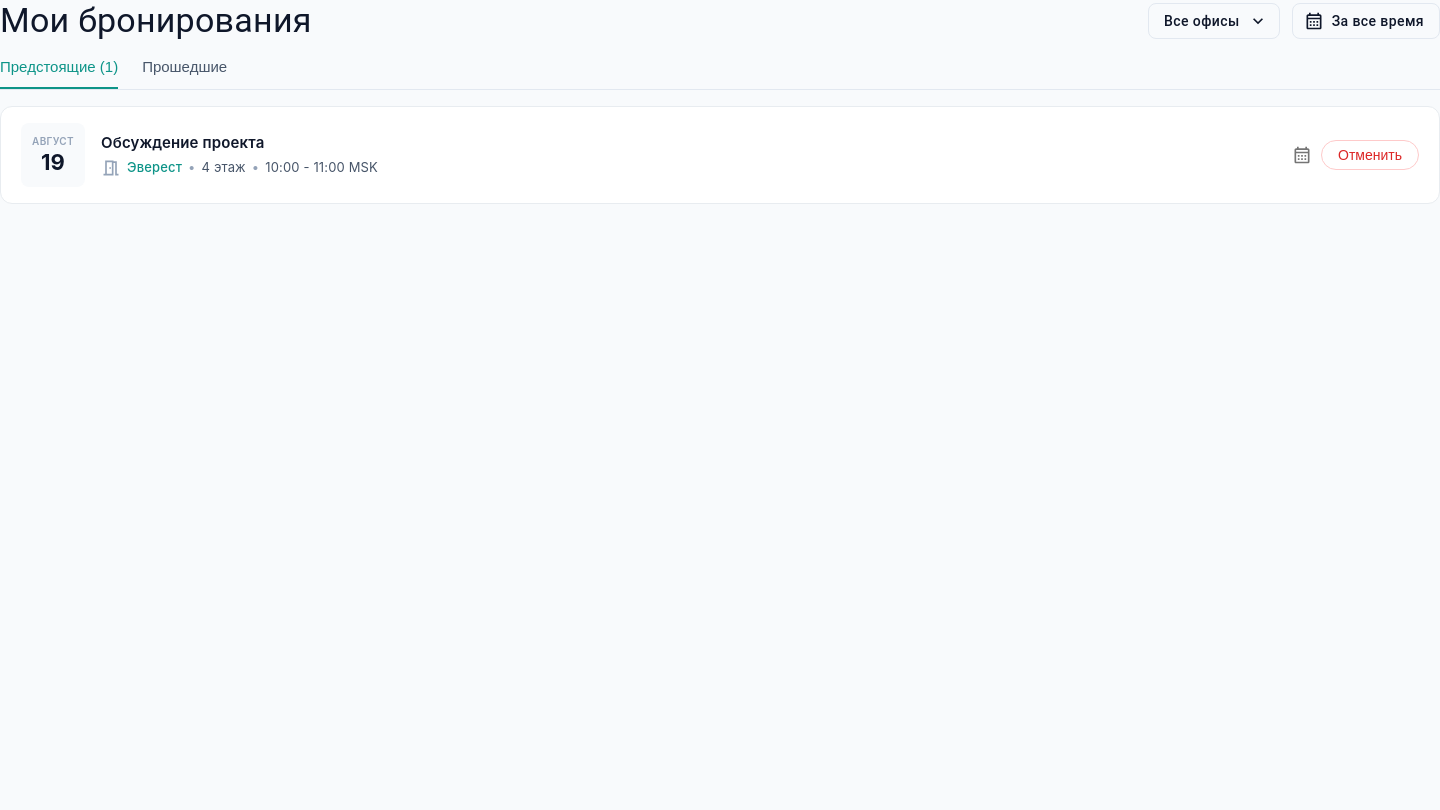
Test case: BookingsPage › закрывает диалог после успешной отмены
Step 1. Click the button "Отменить" → coordinates (1370, 155), box [1321,140,1419,170]
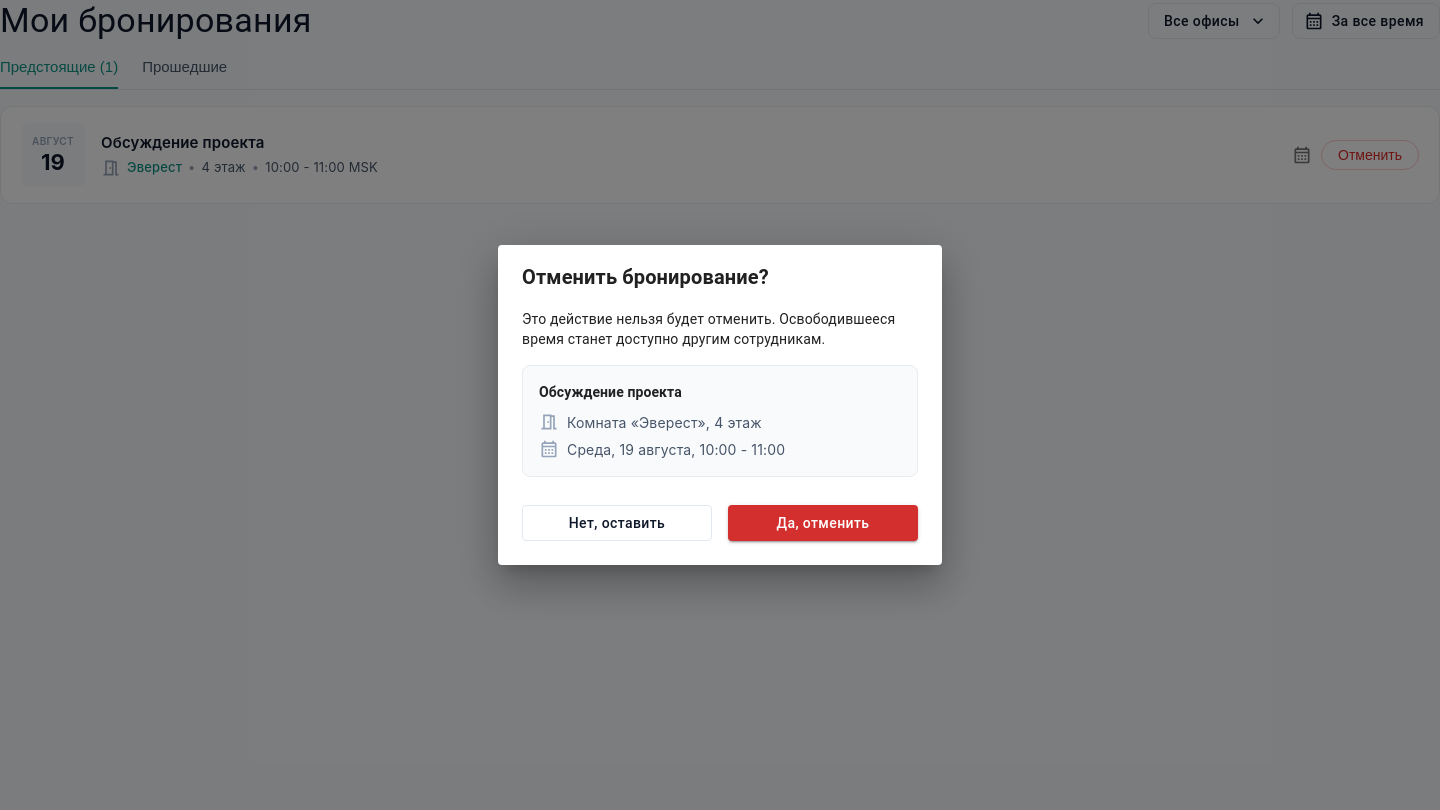
Step 2. Click the button "Да, отменить" → coordinates (823, 523), box [728,505,918,541]
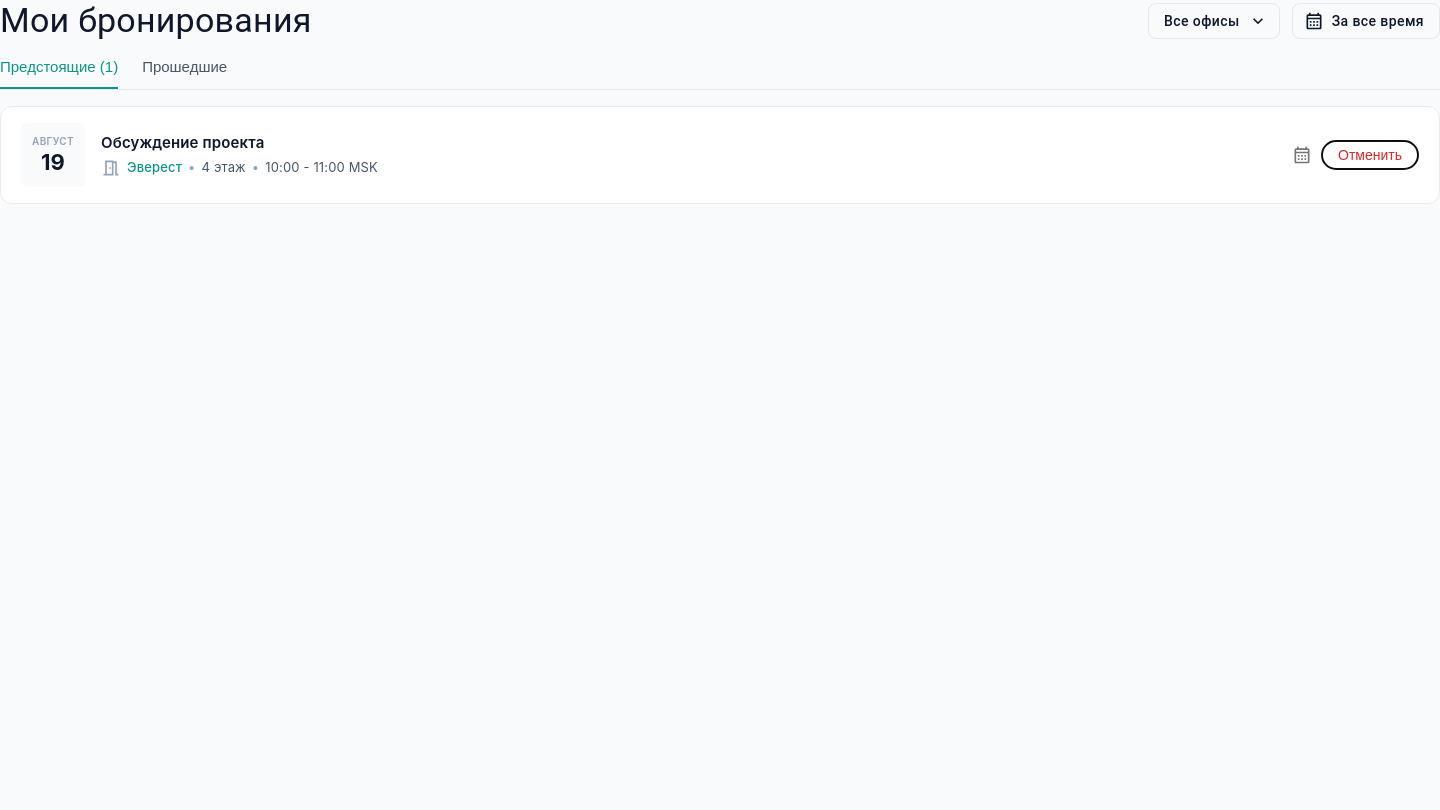
Expected: the heading "Отменить бронирование?" is gone
